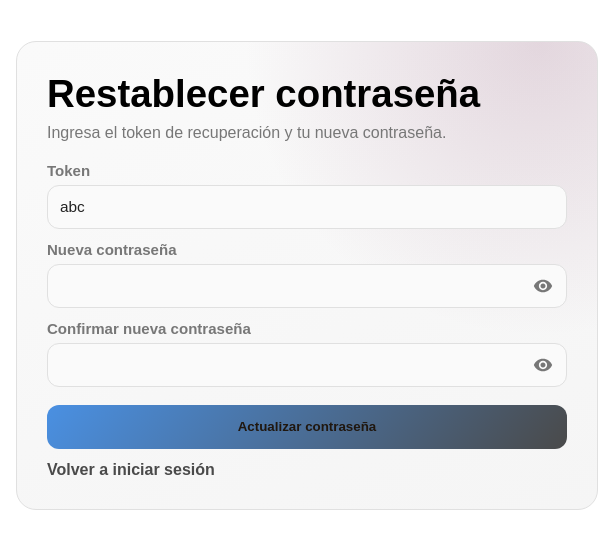
Test case: ResetPasswordView › error en servicio
Type "Secret123" into the password field labelled "Nueva contraseña" at (307, 286), box [47, 264, 567, 308]
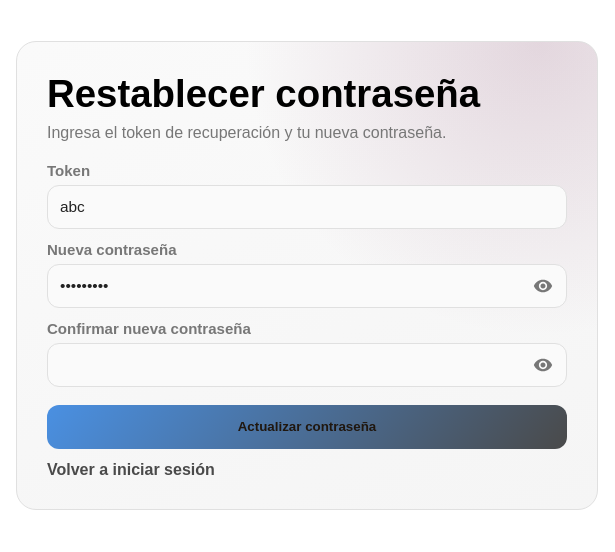
Type "Secret123" into the password field labelled "Confirmar nueva contraseña" at (307, 364), box [47, 342, 567, 386]
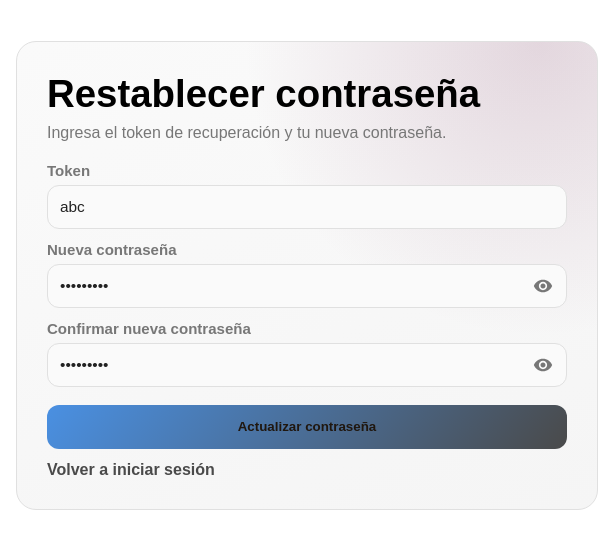
Click the button "Actualizar contraseña" at (307, 426), box [47, 404, 567, 448]
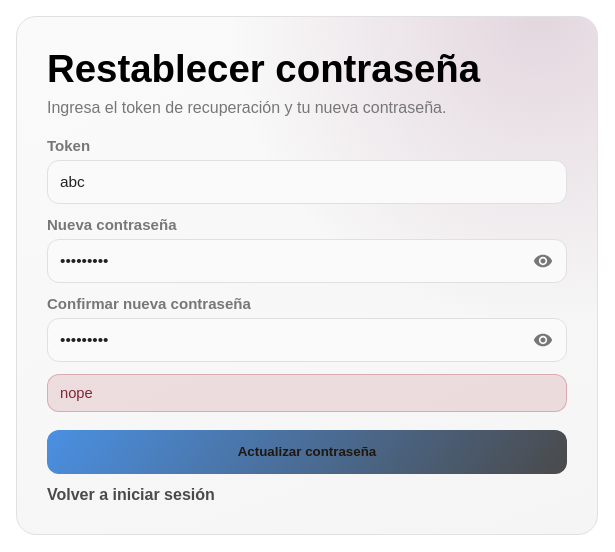
Now the text "nope" is shown, box [47, 374, 567, 412]
